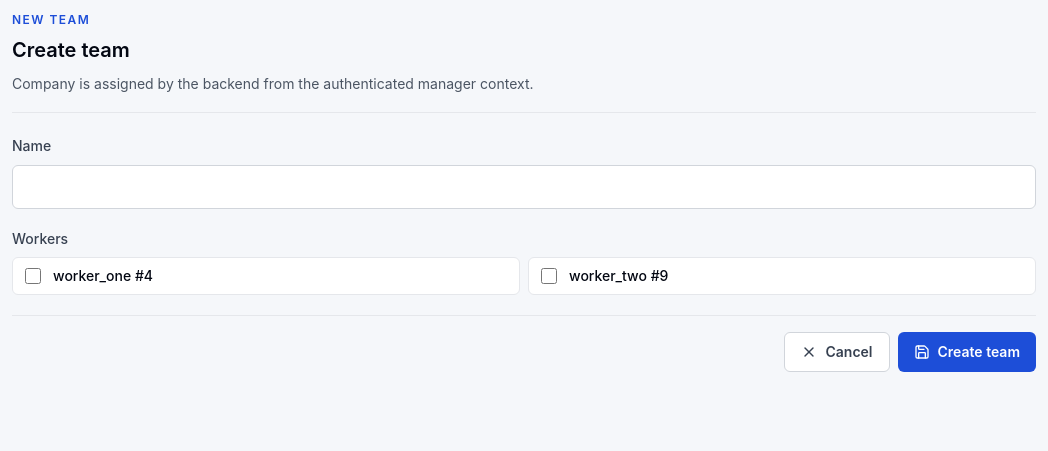
Test: TeamForm › displays submit errors from a rejected save
Type "Alpha crew" into the field labelled "Name" at [524, 187], box [12, 165, 1036, 209]
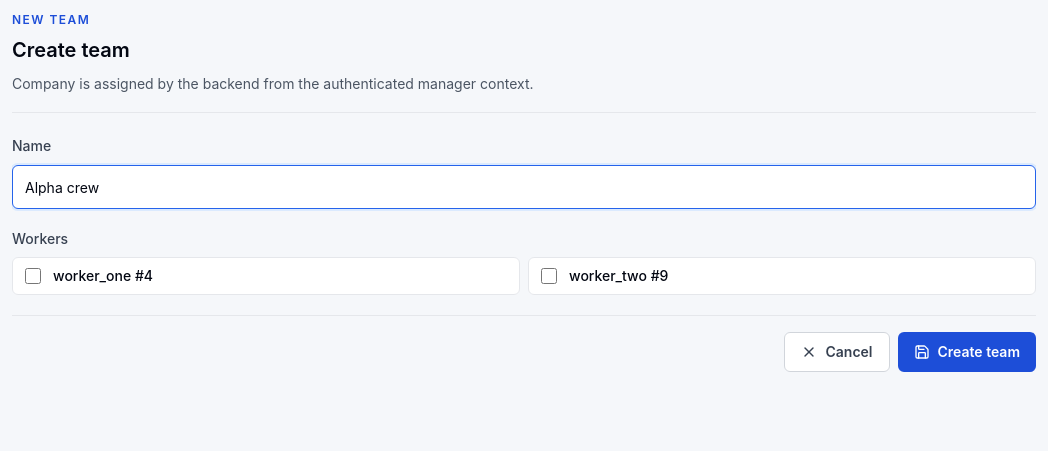
Click the button "Create team" at [967, 352], box [898, 332, 1036, 372]
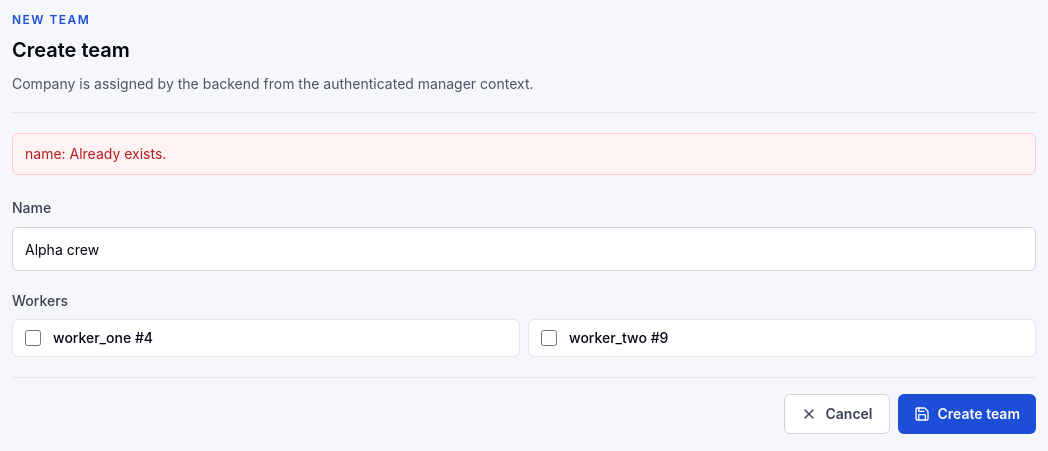
Expected: the text "name: Already exists." is shown, [12, 133, 1036, 175]
